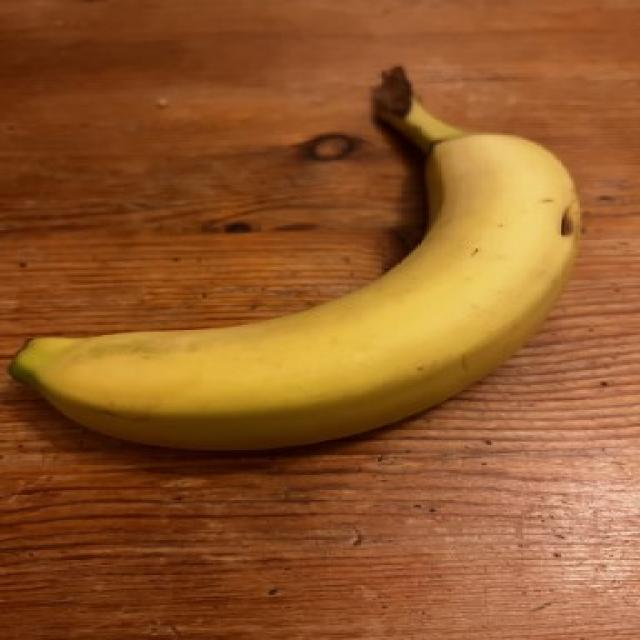Ripe: (0, 35, 612, 484)
